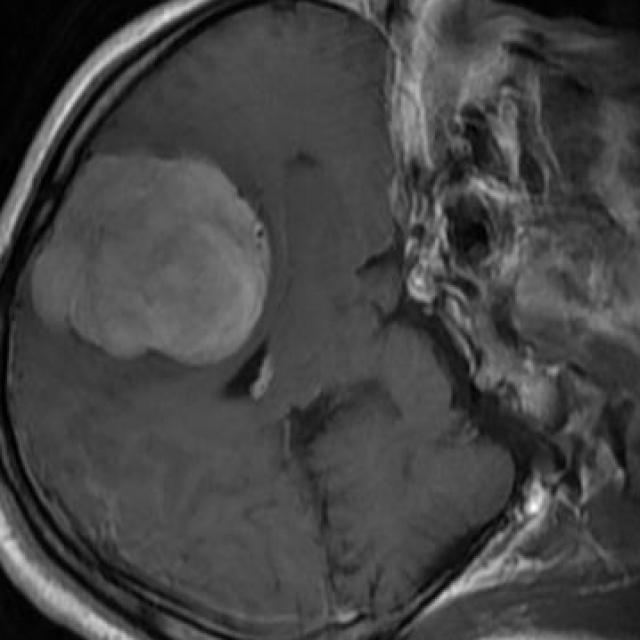meningioma: (30, 157, 271, 367)
